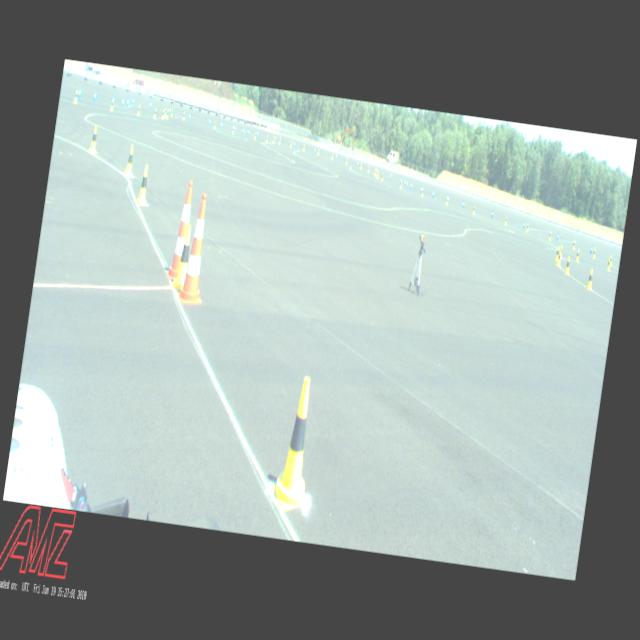blue_cone: (78, 88, 82, 100), (94, 90, 97, 102), (168, 106, 172, 115), (208, 118, 212, 126), (522, 222, 526, 230), (462, 200, 465, 210), (112, 96, 115, 106), (122, 98, 125, 107), (590, 244, 593, 253), (446, 194, 449, 203), (491, 210, 494, 218), (220, 122, 223, 130), (556, 233, 559, 241), (188, 112, 191, 120), (127, 98, 130, 106), (234, 125, 237, 133), (242, 128, 245, 134), (132, 97, 134, 105), (410, 182, 412, 190), (258, 130, 260, 138), (150, 102, 152, 110), (390, 172, 392, 180), (420, 186, 422, 194), (400, 177, 402, 185), (404, 180, 406, 187), (248, 128, 250, 135), (432, 191, 434, 198), (406, 181, 408, 188), (356, 160, 358, 167), (376, 167, 378, 174), (336, 154, 338, 160), (274, 136, 276, 142), (314, 147, 316, 153), (294, 141, 296, 146)
large_orange_cone: (180, 192, 213, 304), (168, 180, 196, 279)
yellow_cone: (274, 374, 320, 505), (172, 223, 194, 290), (136, 163, 152, 206), (125, 144, 136, 178), (88, 125, 100, 154), (586, 268, 594, 290), (564, 256, 572, 275), (556, 250, 562, 266), (110, 98, 115, 111), (556, 244, 560, 260), (606, 258, 611, 270), (575, 249, 580, 261), (74, 90, 78, 104), (560, 246, 564, 258), (138, 105, 142, 116), (572, 240, 576, 250), (153, 108, 157, 118), (504, 216, 508, 225), (548, 232, 552, 240), (278, 137, 282, 145), (593, 248, 596, 258), (610, 256, 613, 266), (526, 223, 529, 232), (473, 206, 476, 215), (446, 197, 449, 206), (421, 188, 424, 197), (164, 108, 167, 117), (171, 109, 174, 118), (182, 112, 185, 120), (232, 126, 235, 134), (166, 110, 169, 118), (400, 180, 402, 189), (374, 167, 376, 176), (376, 169, 378, 178), (214, 121, 216, 129), (254, 132, 256, 140), (272, 136, 274, 144), (162, 110, 164, 118), (303, 144, 305, 152), (360, 162, 362, 170), (318, 148, 320, 156), (266, 135, 268, 143), (377, 170, 379, 178), (290, 141, 292, 148), (368, 166, 370, 173), (346, 158, 348, 165), (382, 173, 384, 180), (332, 154, 334, 160)
